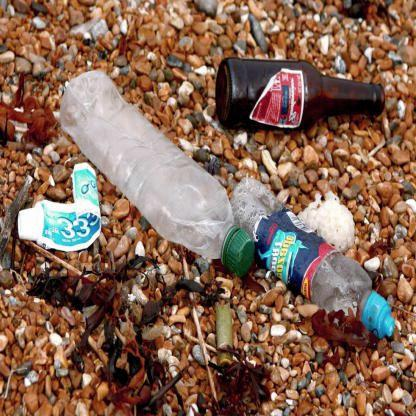Glass: (210, 52, 385, 130)
Plastic: (57, 57, 255, 280), (231, 173, 398, 344), (16, 195, 104, 253)
